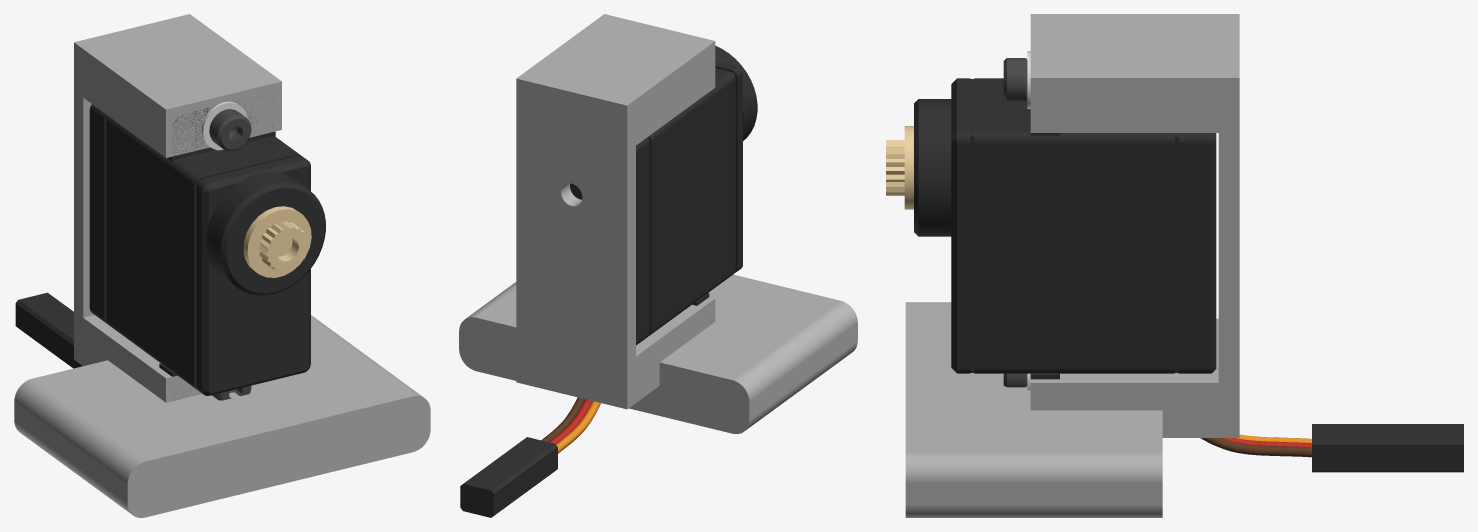
The model's file is hand.glb.
3 views of the same model, side by side, from view 1: azimuth 30°, elevation 25°; view 2: azimuth 150°, elevation 25°; view 3: azimuth 270°, elevation 25° (orthographic). The views are drawn at different scales.
Parts seen in each view (by area): view 1: hand-body, hand-hardware; view 2: hand-body, hand-hardware; view 3: hand-body, hand-hardware.
Boxes of the visible parts, x1,y1,x2,y2 form: hand-body: (14, 14, 430, 517); hand-hardware: (201, 101, 311, 400); hand-body: (459, 14, 857, 517); hand-hardware: (541, 397, 600, 453); hand-body: (905, 14, 1463, 517); hand-hardware: (886, 51, 1311, 457).
Bounding box in the file's own units: 0.034 × 0.0395 × 0.0495.
